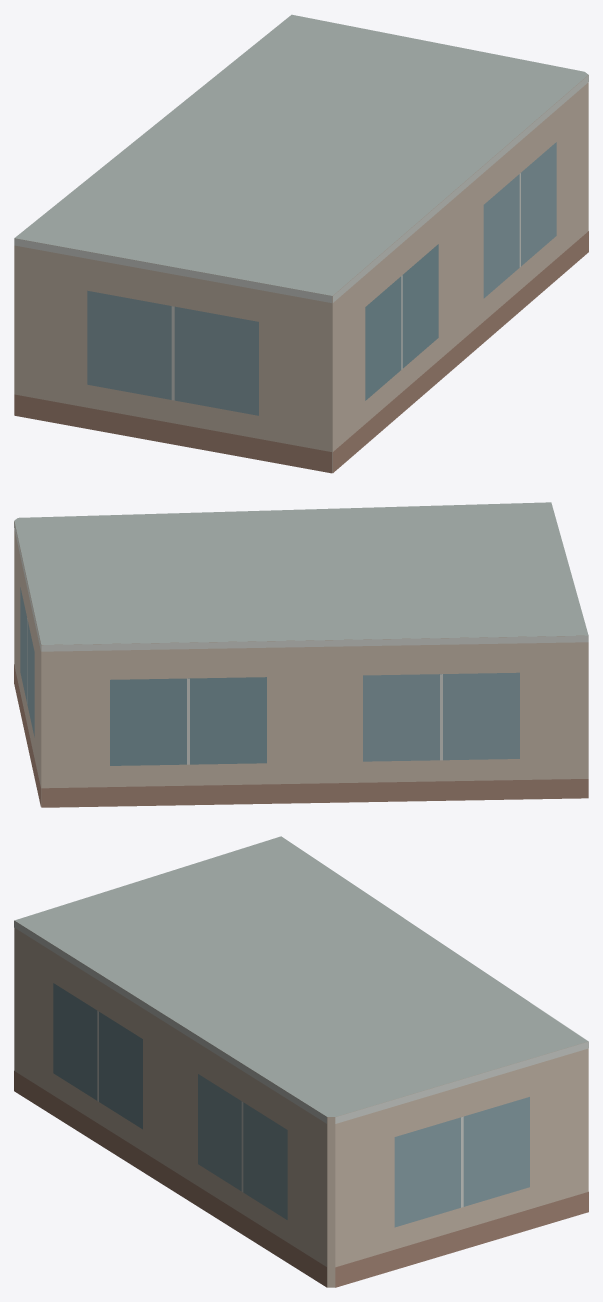
File: survey-upis-32636025.glb
3 views of the same model, one above another, from view 1: azimuth 30°, elevation 25°; view 2: azimuth 150°, elevation 25°; view 3: azimuth 270°, elevation 25° (orthographic). The views are drawn at different scales.
Parts seen in each view (by area): view 1: survey-upis-32636025.tmp; view 2: survey-upis-32636025.tmp; view 3: survey-upis-32636025.tmp.
Part boxes in pixels (x1,y1,x2,y2): survey-upis-32636025.tmp: (14, 14, 588, 473); survey-upis-32636025.tmp: (14, 502, 588, 807); survey-upis-32636025.tmp: (14, 836, 588, 1287).
Size of the model in its own units: 10.78 by 3.05 by 9.32.
